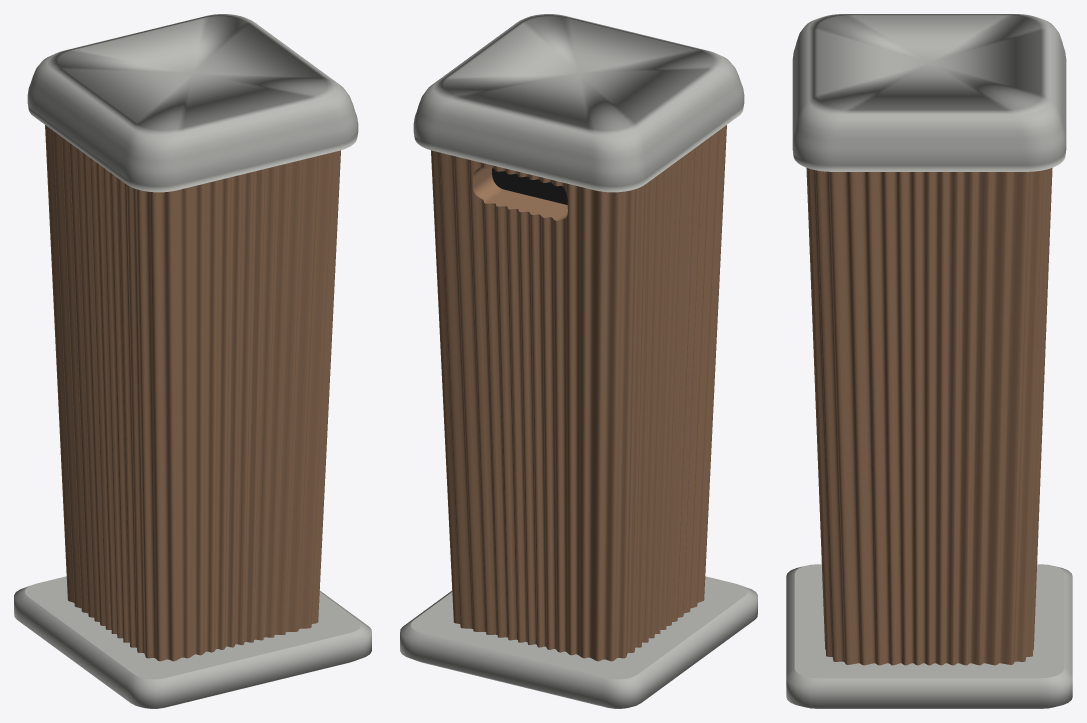
Rendered from 37-trash-bin-bs4.glb.
3 renders of one model, left to right at view 1: azimuth 30°, elevation 25°; view 2: azimuth 150°, elevation 25°; view 3: azimuth 270°, elevation 25°, orthographic. The views are drawn at different scales.
Parts seen in each view (by area): view 1: Body, Rim, Plinth; view 2: Body, Rim, Plinth, SlotPlate; view 3: Body, Rim, Plinth.
Part boxes in pixels (x1,y1,x2,y2): Body: (45,125,340,661); Rim: (27,14,358,192); Plinth: (14,576,371,708); Body: (431,125,726,661); Rim: (413,14,744,192); Plinth: (400,576,757,708); SlotPlate: (492,168,567,204); Body: (806,168,1052,665); Rim: (792,14,1066,171); Plinth: (786,564,1072,708).
Bounding box in the file's own units: 1.18 × 2.68 × 1.18.
